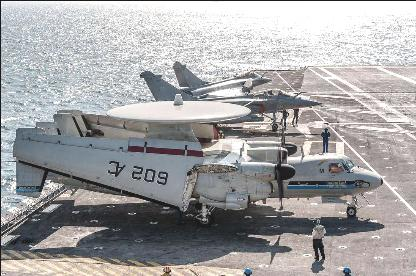C5: (11, 93, 381, 225)
RQ4: (138, 68, 322, 128), (170, 59, 272, 96)
